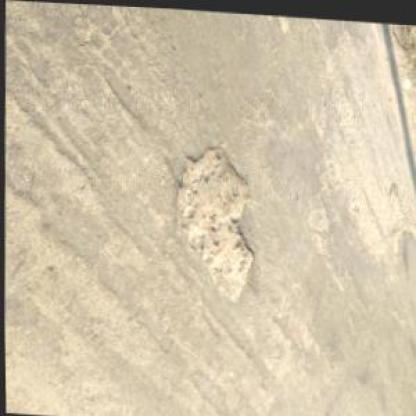pothole: (172, 140, 255, 300)
